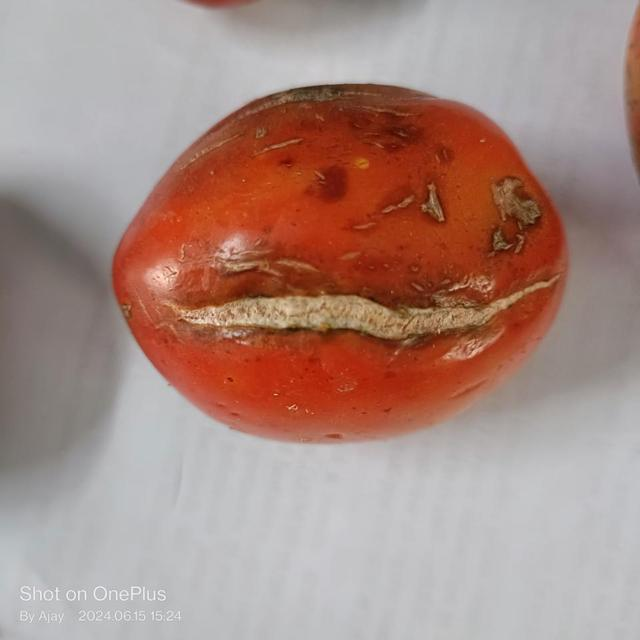Cracking Fruit: (327, 119, 379, 213)
